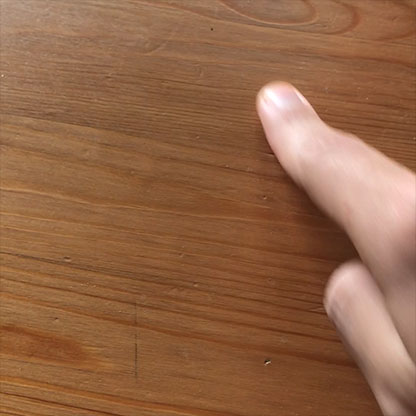fingertip: (254, 75, 312, 124)
